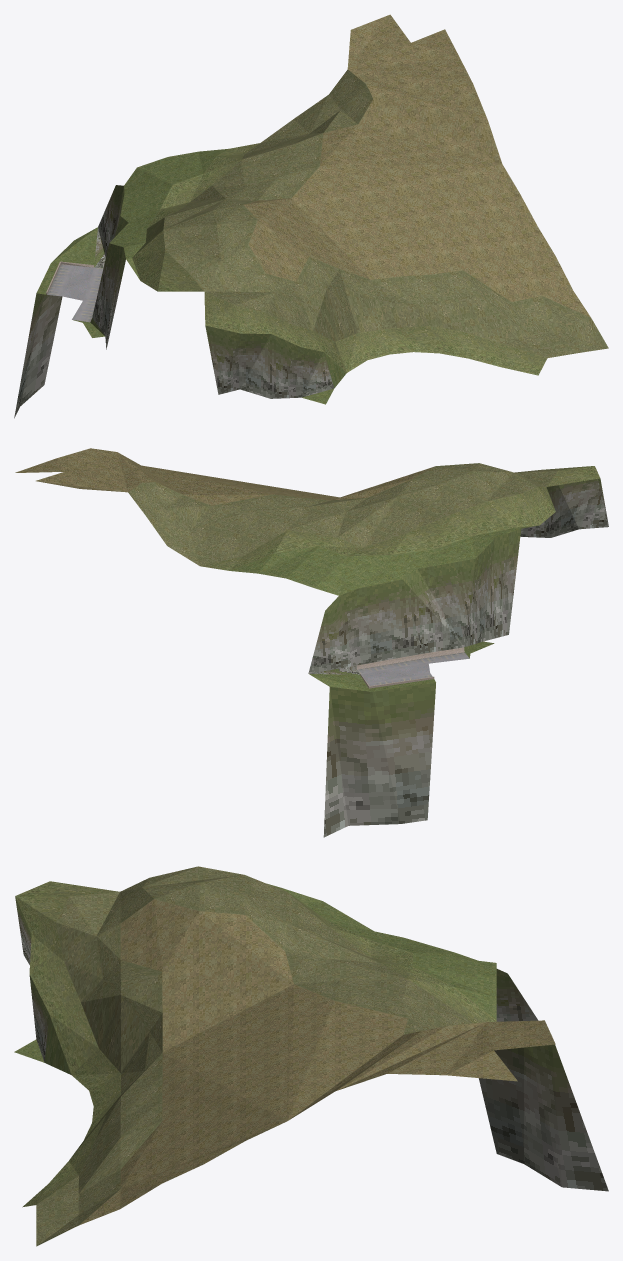
File: nw_lodbit_25.obj
3 renders of one model, top to bottom at view 1: azimuth 30°, elevation 25°; view 2: azimuth 150°, elevation 25°; view 3: azimuth 270°, elevation 25°, orthographic. The views are drawn at different scales.
Parts seen in each view (by area): view 1: nw_lodbit_25; view 2: nw_lodbit_25; view 3: nw_lodbit_25.
Part boxes in pixels (left/top/right/bottom): nw_lodbit_25: left=14, top=14, right=608, bottom=418; nw_lodbit_25: left=15, top=448, right=608, bottom=837; nw_lodbit_25: left=14, top=866, right=608, bottom=1246.
Size of the model in its own units: 253 by 158 by 251.
9 materials, 9 textured.
